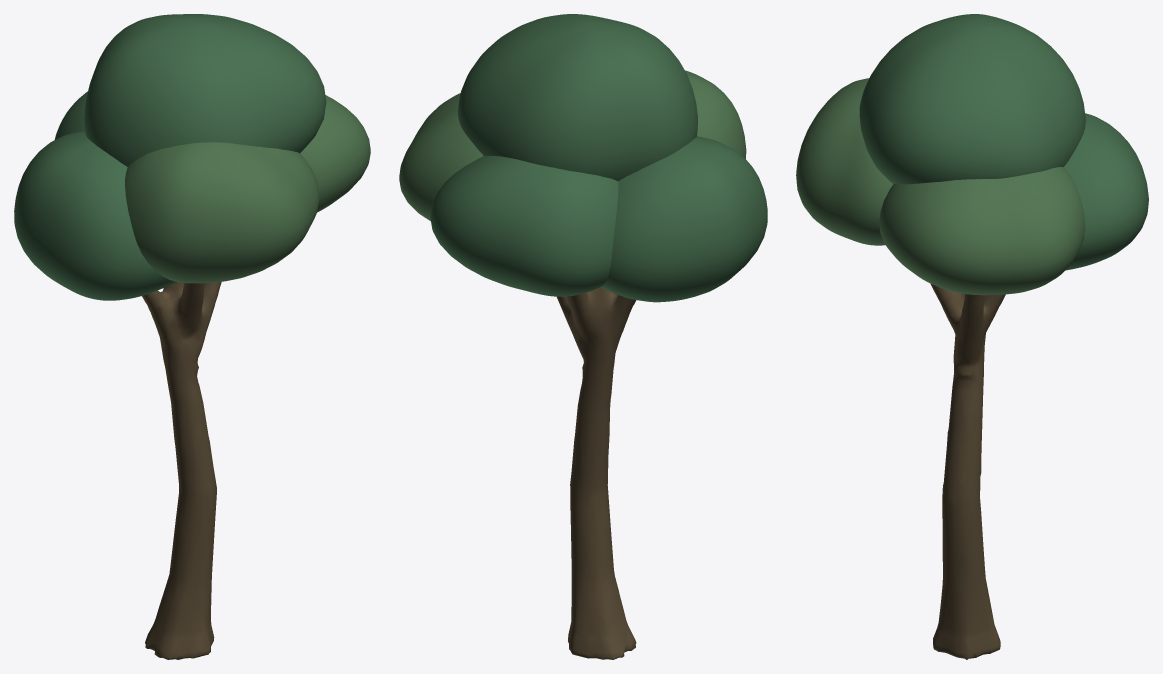
Rendered from city_planting_04_compact.glb.
3 renders of one model, left to right at view 1: azimuth 30°, elevation 25°; view 2: azimuth 150°, elevation 25°; view 3: azimuth 270°, elevation 25°, orthographic.
Visible parts, largest first — view 1: compact_crown_leader, compact_crown_back, compact_sculpted_trunk, compact_crown_west, compact_crown_east, compact_crown_front; view 2: compact_crown_leader, compact_crown_front, compact_crown_west, compact_sculpted_trunk, compact_crown_east, compact_crown_back; view 3: compact_crown_leader, compact_crown_east, compact_sculpted_trunk, compact_crown_back, compact_crown_front.
Boxes of the visible parts, box(x1,y1,x2,y2) form: compact_crown_leader: box(84, 14, 326, 166); compact_crown_back: box(125, 142, 319, 283); compact_sculpted_trunk: box(142, 282, 221, 659); compact_crown_west: box(14, 131, 177, 300); compact_crown_east: box(300, 95, 370, 212); compact_crown_front: box(54, 91, 87, 139); compact_crown_leader: box(458, 14, 697, 181); compact_crown_front: box(430, 155, 618, 296); compact_crown_west: box(602, 136, 767, 302); compact_sculpted_trunk: box(557, 287, 636, 659); compact_crown_east: box(399, 93, 483, 221); compact_crown_back: box(685, 70, 746, 158); compact_crown_leader: box(859, 14, 1085, 184); compact_crown_east: box(879, 167, 1085, 295); compact_sculpted_trunk: box(930, 283, 1005, 659); compact_crown_back: box(796, 78, 893, 245); compact_crown_front: box(1064, 113, 1148, 270).
Bounding box in the file's own units: 2 × 3.6 × 1.85.
